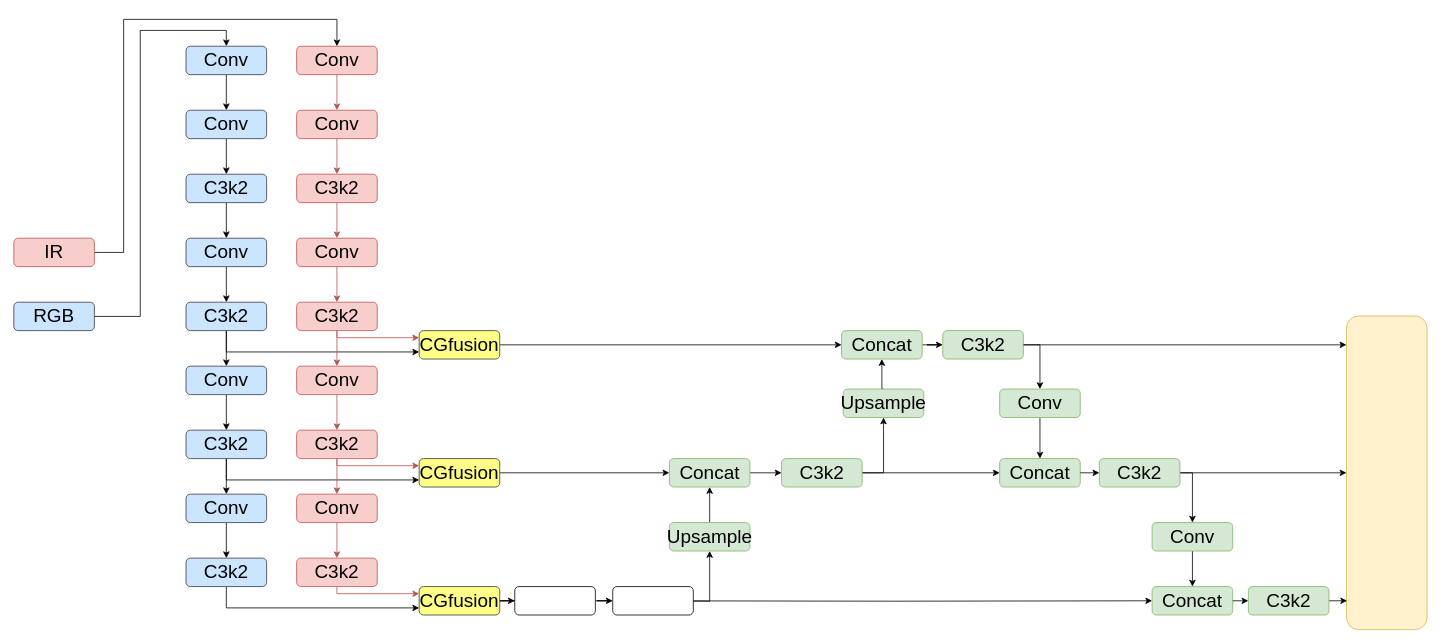
Image size: 1441x644. Some labels were removed from this diagram. Each missing label, with the centre of its shape:
"C2PSA" belongs at [652,600].
"Detect" belongs at [1386,472].
"SPPF" belongs at [554,600].
